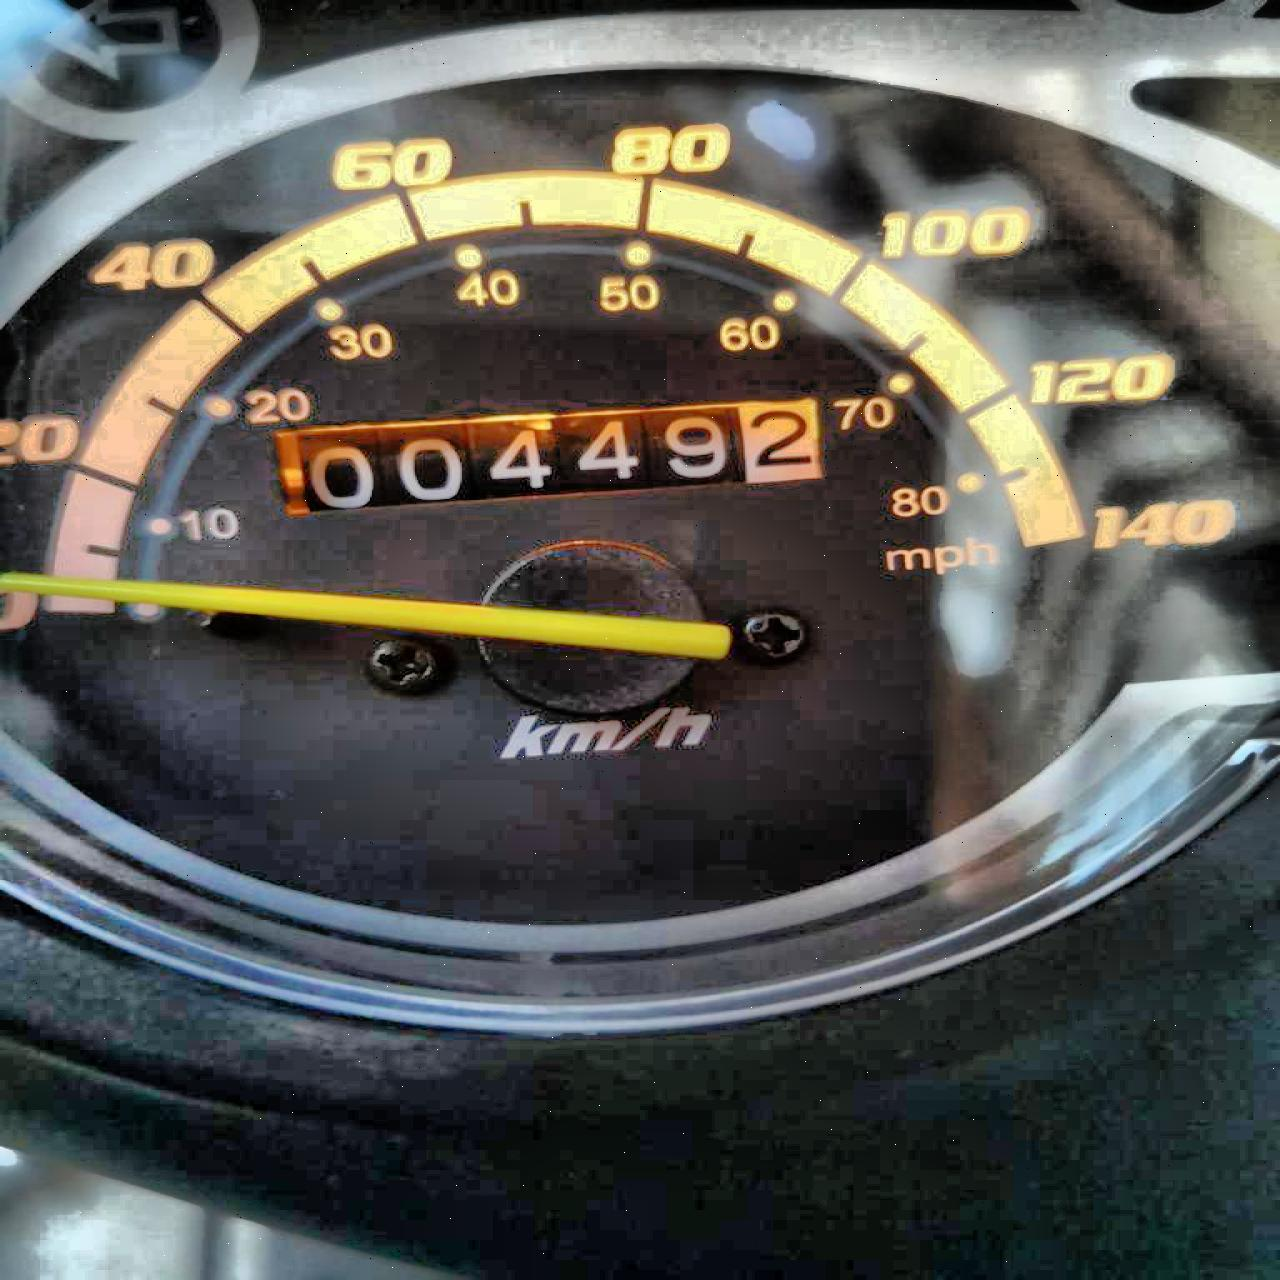0: (305, 440, 376, 511), (394, 433, 463, 502), (278, 387, 309, 422)
2: (745, 407, 817, 471), (253, 389, 277, 425)
4: (570, 415, 640, 481), (483, 423, 552, 489)
9: (660, 413, 728, 478)
odometer: (253, 384, 837, 520)
